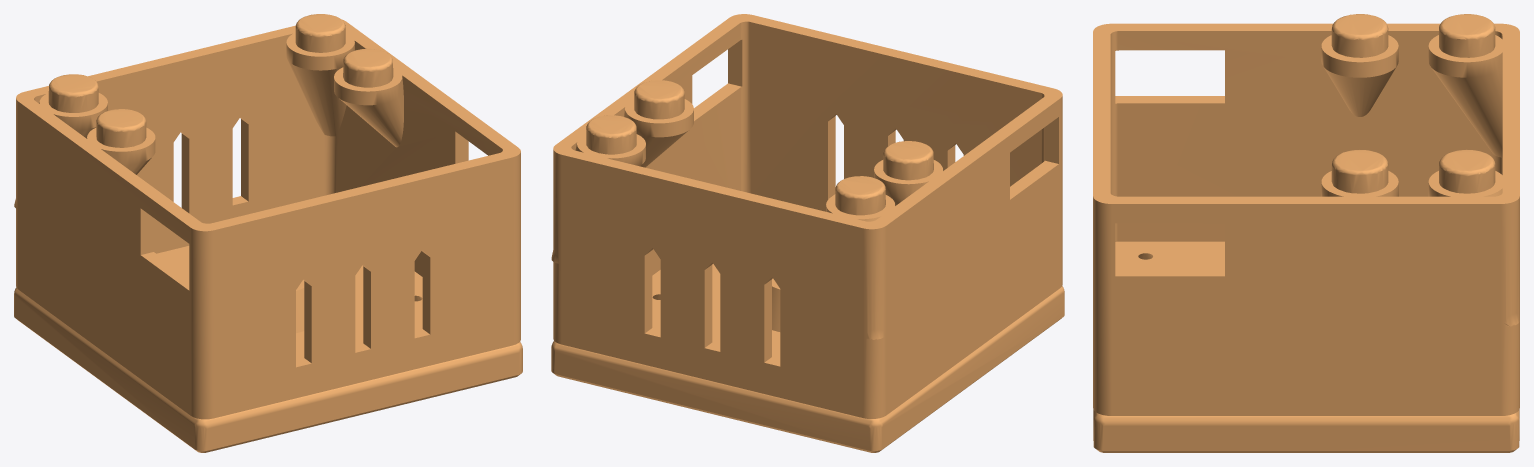
The model's file is mom-flywheel-tray.glb.
The picture shows the model from 3 angles, left to right: view 1: azimuth 30°, elevation 25°; view 2: azimuth 150°, elevation 25°; view 3: azimuth 270°, elevation 25°; orthographic projection. The views are drawn at different scales.
Parts seen in each view (by area): view 1: mom-flywheel-tray; view 2: mom-flywheel-tray; view 3: mom-flywheel-tray.
Boxes of the visible parts, x1,y1,x2,y2 form: mom-flywheel-tray: (14, 14, 522, 452); mom-flywheel-tray: (551, 14, 1064, 452); mom-flywheel-tray: (1093, 14, 1519, 452).
Bounding box in the file's own units: 0.0498 × 0.0351 × 0.0498.
